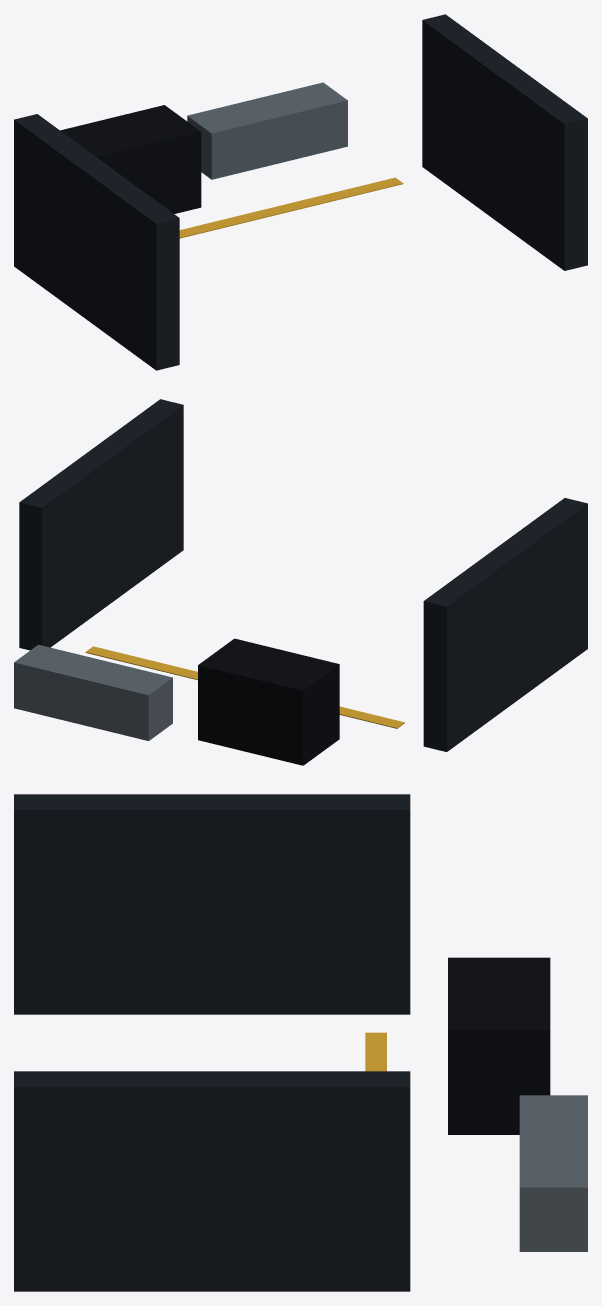
Rendered from module.security_checkpoint.glb.
3 views of the same model, one above another, from view 1: azimuth 30°, elevation 25°; view 2: azimuth 150°, elevation 25°; view 3: azimuth 270°, elevation 25° (orthographic). The views are drawn at different scales.
Visible parts, largest first — view 1: checkpoint_left, checkpoint_right, low_counter, scan_machine, checkpoint_line; view 2: checkpoint_left, checkpoint_right, scan_machine, low_counter, checkpoint_line; view 3: checkpoint_left, checkpoint_right, scan_machine, low_counter, checkpoint_line.
Part boxes in pixels (left/top/right/bottom): checkpoint_left: left=14, top=114, right=179, bottom=370; checkpoint_right: left=422, top=14, right=587, bottom=270; low_counter: left=187, top=82, right=347, bottom=179; scan_machine: left=60, top=105, right=201, bottom=213; checkpoint_line: left=179, top=177, right=403, bottom=238; checkpoint_left: left=423, top=498, right=587, bottom=751; checkpoint_right: left=19, top=399, right=183, bottom=650; scan_machine: left=198, top=638, right=339, bottom=765; low_counter: left=14, top=644, right=172, bottom=740; checkpoint_line: left=85, top=646, right=404, bottom=728; checkpoint_left: left=14, top=794, right=410, bottom=1014; checkpoint_right: left=14, top=1071, right=410, bottom=1291; scan_machine: left=448, top=957, right=550, bottom=1134; low_counter: left=519, top=1095, right=587, bottom=1251; checkpoint_line: left=365, top=1032, right=386, bottom=1071.
Bounding box in the file's own units: 10.15 × 3.3 × 8.4.
